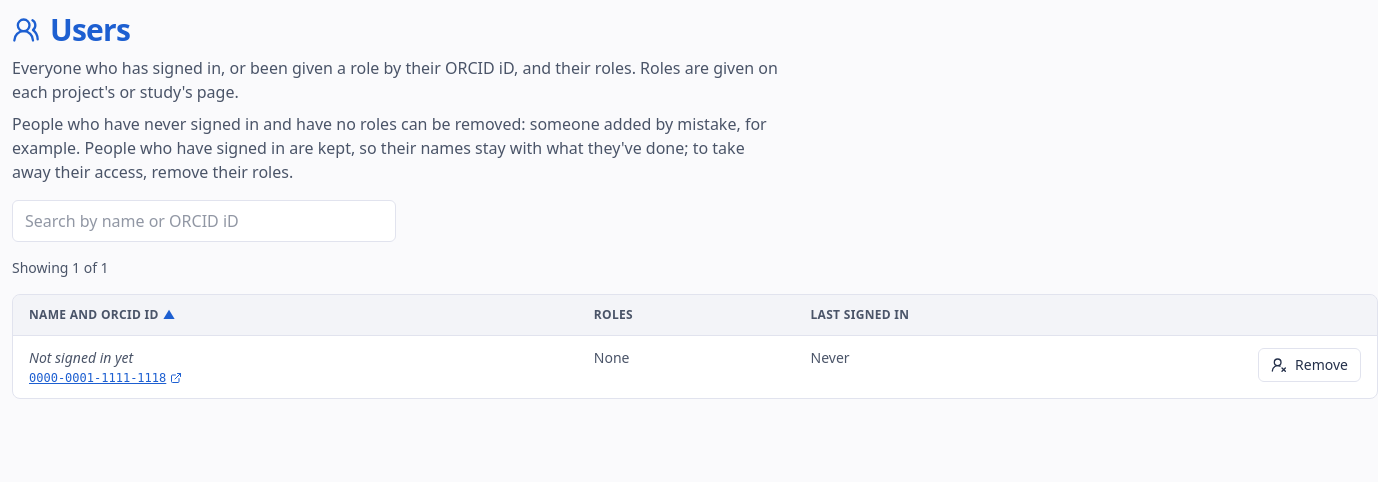
UsersPage › says when removing someone is refused
Click the button with aria-label "Remove 0000-0001-1111-1118" at x=1310, y=365, box [1258,348,1361,382]
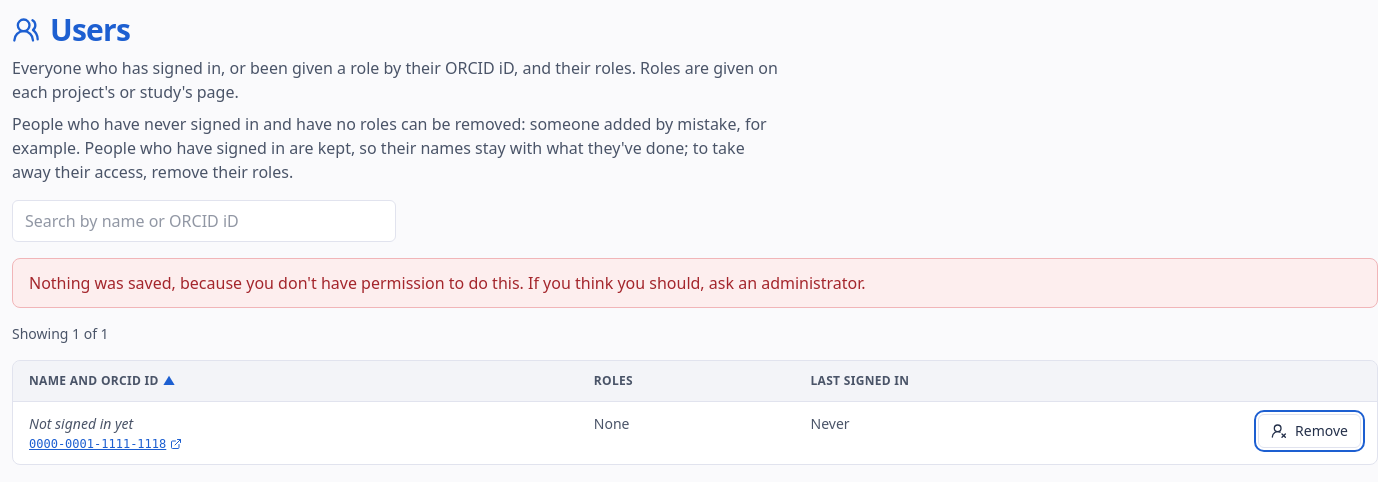
Expected: the message shows "you don't have permission", [29,272,866,294]
